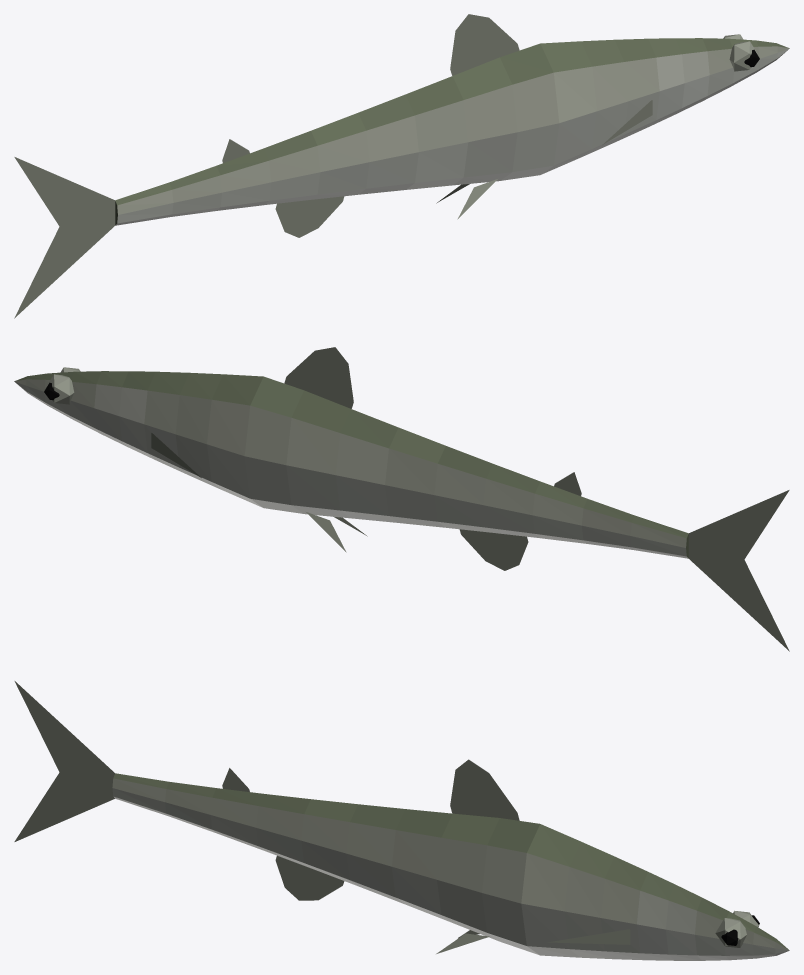
File: lake-whitefish.glb
3 renders of one model, top to bottom at view 1: azimuth 30°, elevation 25°; view 2: azimuth 150°, elevation 25°; view 3: azimuth 330°, elevation 25°, orthographic.
Visible parts, largest first — view 1: lake-whitefish; view 2: lake-whitefish; view 3: lake-whitefish.
Part boxes in pixels (box(x1,y1,x2,y2)): lake-whitefish: box(14, 14, 789, 318); lake-whitefish: box(14, 347, 789, 651); lake-whitefish: box(14, 681, 789, 960).
Size of the model in its own units: 1.15 by 0.2747 by 0.1408.
